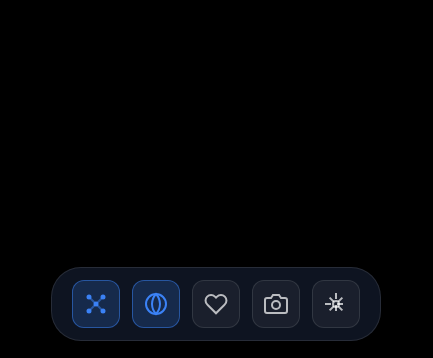
Test: ARControls › closes settings panel
// Open settings panel
Click the button named "Open settings" at (336, 304), box top-left (312, 280), bottom-right (360, 328)
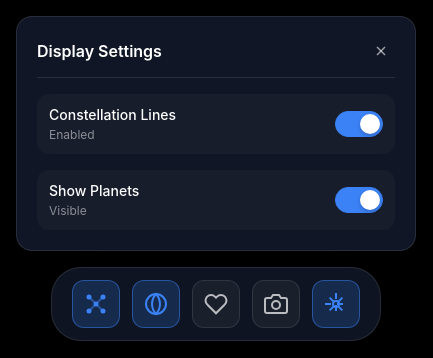
Now the heading "Display Settings" is shown, box top-left (37, 41), bottom-right (162, 61)
// Close settings panel
Click the button named "Close settings" at (381, 51), box top-left (367, 37), bottom-right (395, 65)
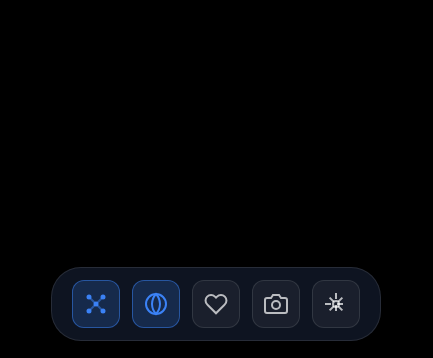
Now the heading "Display Settings" is gone
